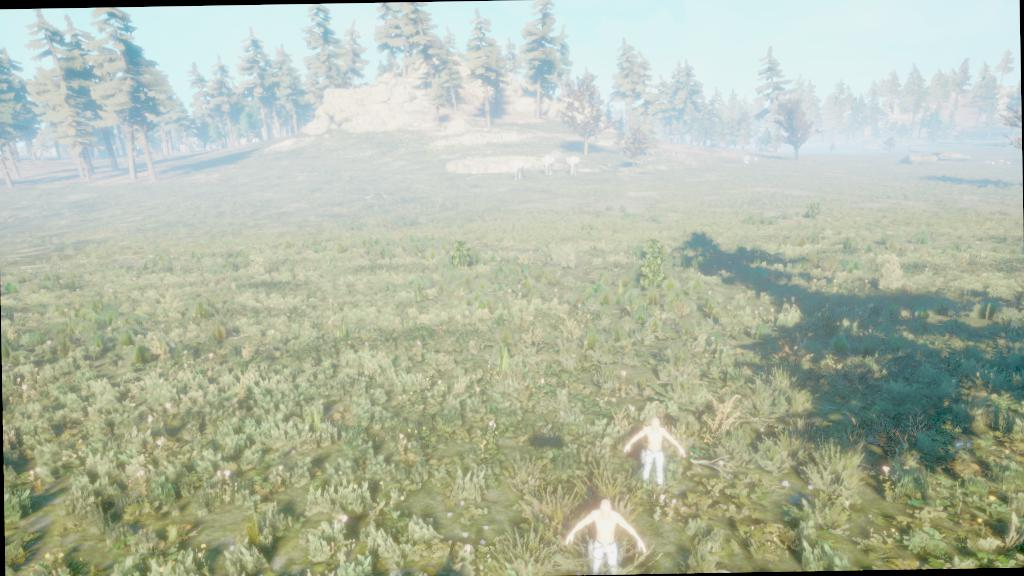elephant: (564, 151, 584, 183), (539, 152, 559, 180), (507, 158, 530, 182)
human: (552, 490, 650, 574), (616, 410, 698, 492)
